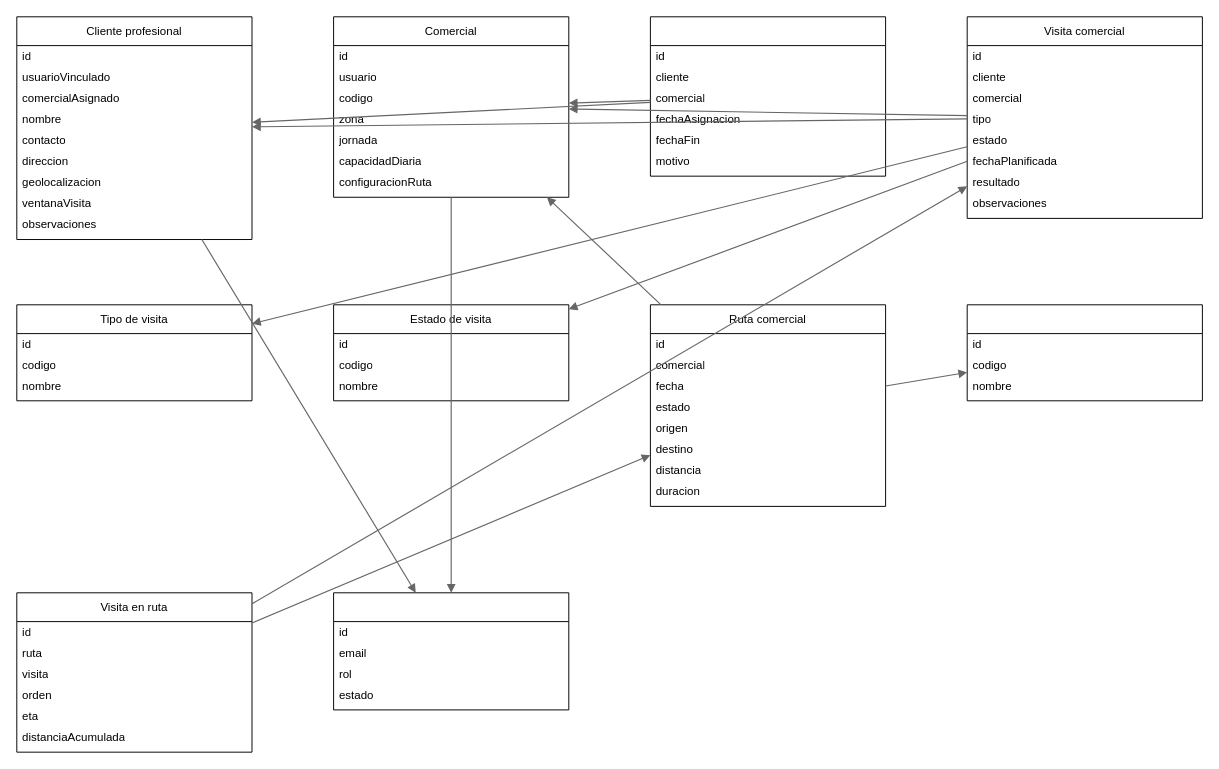
Some shapes in this 1219 by 769 pixel diagram are drawn without their labels. The shapes that lost their labels are listed below. From the top down, each one's box as (x1, y1, x2, y2) in pixels, then its label:
(649, 16, 886, 176): Asignación comercial-cliente
(966, 304, 1202, 401): Estado de ruta
(333, 592, 569, 710): Usuario (M1)
